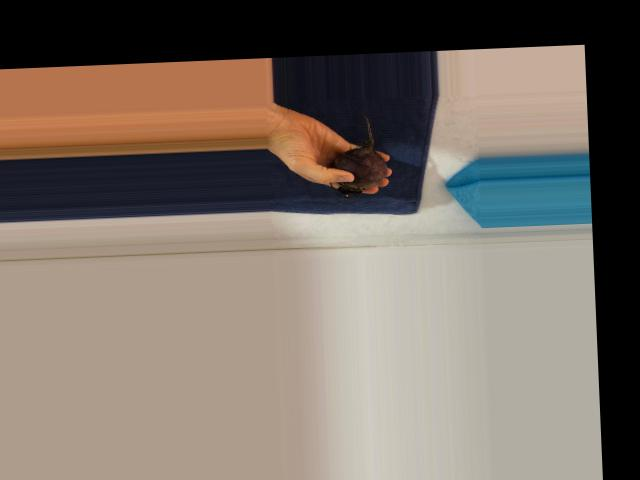beet: (327, 113, 388, 198)
